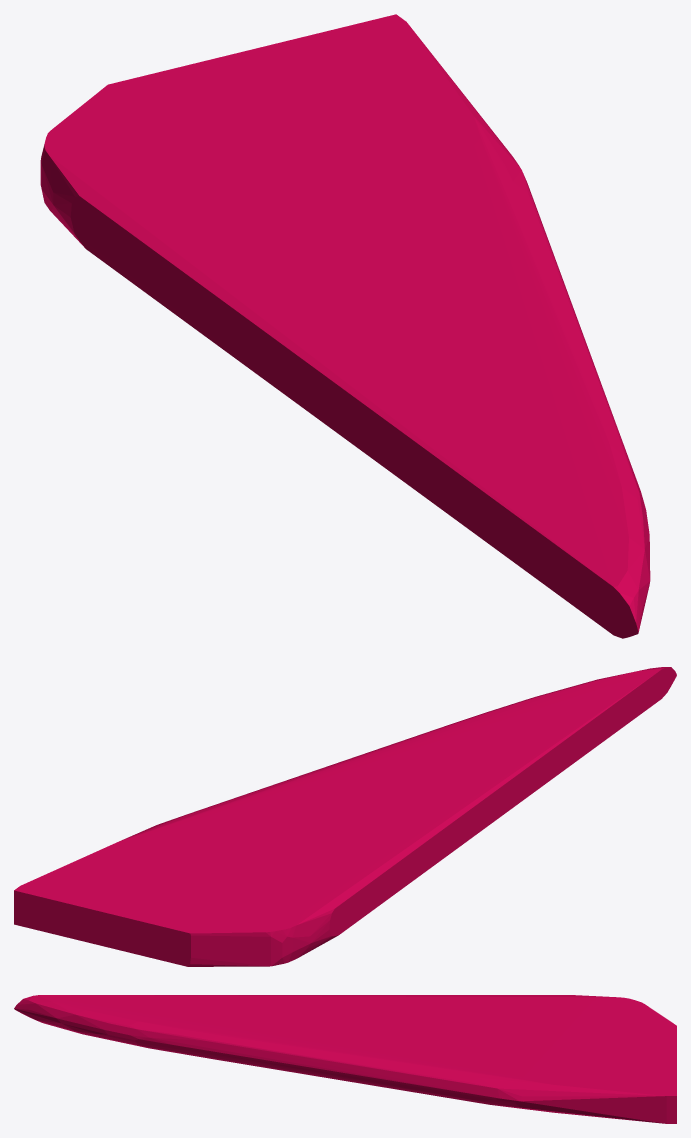
File: model0_convex_piece_001.obj
3 renders of one model, top to bottom at view 1: azimuth 30°, elevation 25°; view 2: azimuth 150°, elevation 25°; view 3: azimuth 270°, elevation 25°, orthographic. The views are drawn at different scales.
Size of the model in its own units: 0.0253 by 0.0032 by 0.069.
